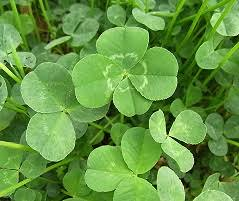4-clover: (72, 26, 179, 116)
